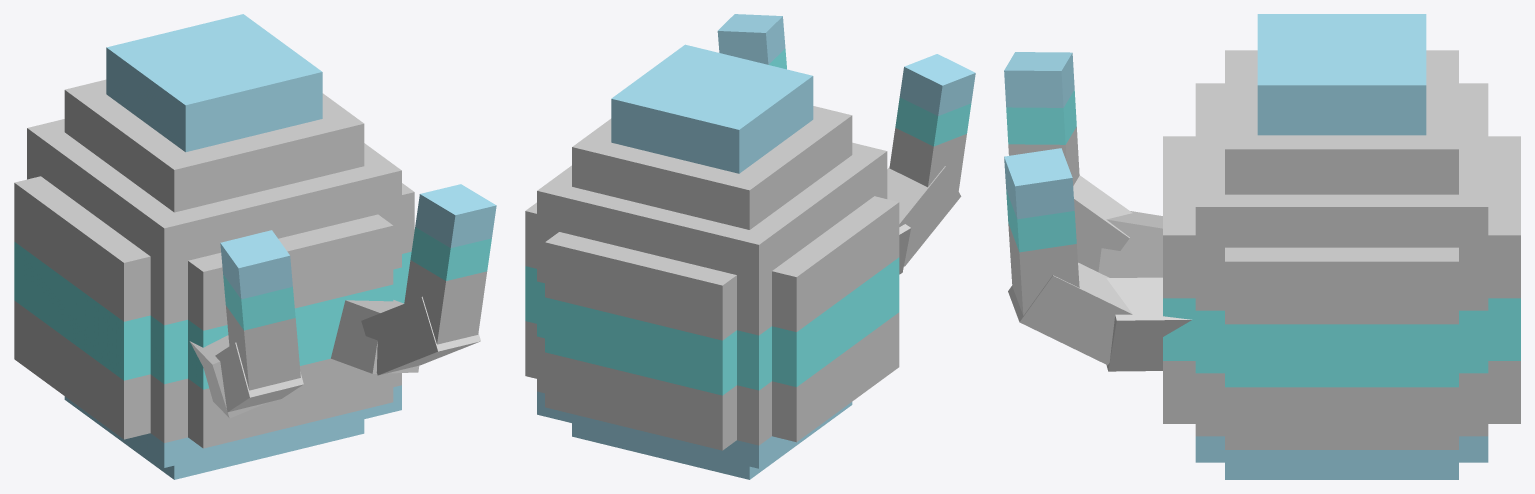
The model's file is 38.King Elefanto Cocofanto.fbx.
3 renders of one model, left to right at view 1: azimuth 30°, elevation 25°; view 2: azimuth 150°, elevation 25°; view 3: azimuth 270°, elevation 25°, orthographic. The views are drawn at different scales.
Visible parts, largest first — view 1: King_Elefanto_Cocofanto; view 2: King_Elefanto_Cocofanto; view 3: King_Elefanto_Cocofanto.
Boxes of the visible parts, box(x1,y1,x2,y2) form: King_Elefanto_Cocofanto: box(14, 14, 496, 479); King_Elefanto_Cocofanto: box(525, 14, 975, 479); King_Elefanto_Cocofanto: box(1004, 14, 1520, 479).
Size of the model in its own units: 2.89 by 3.39 by 4.17.
